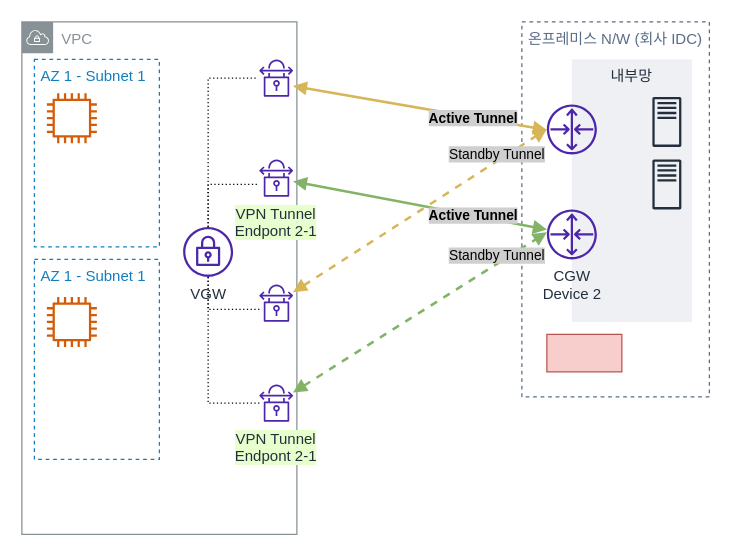
The diagram is 731 pixels wide and 556 high, and some of its shapes have lost their labels. Each missing label, with the centre of its shape:
"CGW Device 1" belongs at (x=571, y=129).
"iBGP 설정" belongs at (x=584, y=352).
"VPN Tunnel Endpont 1-1" belongs at (x=275, y=77).
"VPN Tunnel Endpont 1-2" belongs at (x=275, y=302).
